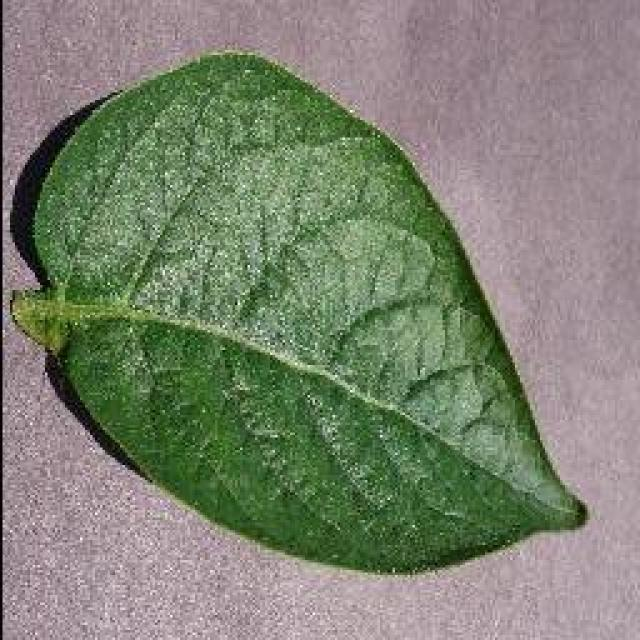Potato___healthy: (10, 52, 593, 578)
